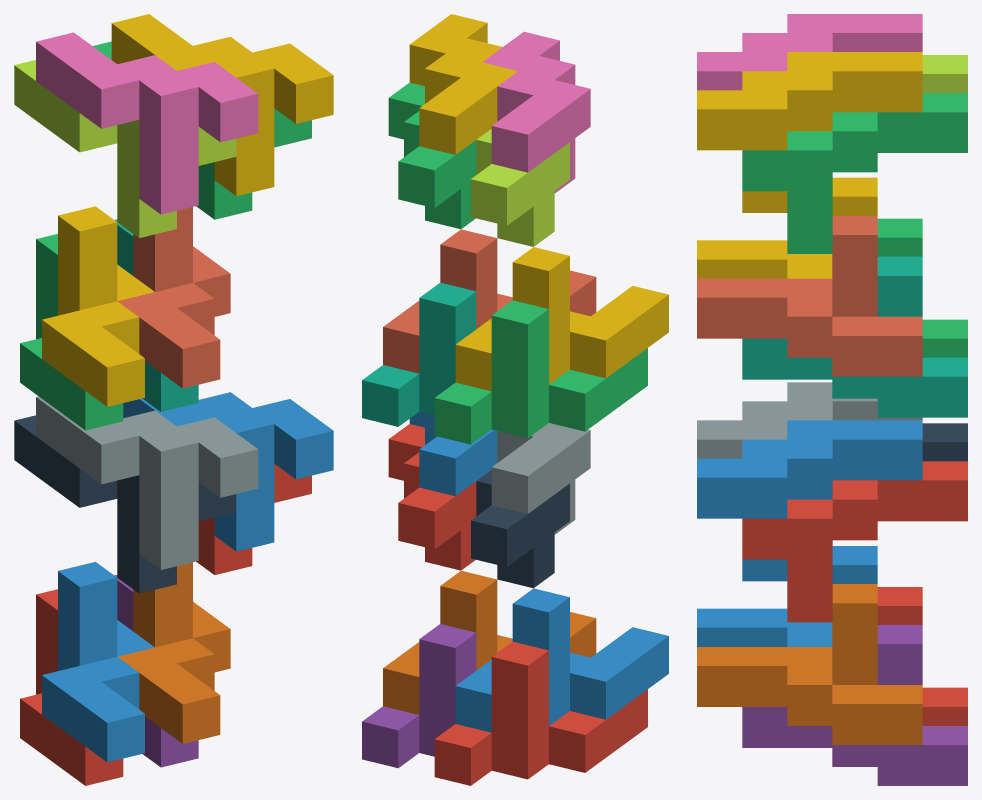
The model's file is tiling.obj.
3 views of the same model, side by side, from view 1: azimuth 30°, elevation 25°; view 2: azimuth 150°, elevation 25°; view 3: azimuth 270°, elevation 25° (orthographic). The views are drawn at different scales.
Parts seen in each view (by area): view 1: copy_2_domain_4, copy_2_domain_2, copy_1_domain_2, copy_1_domain_4, copy_2_domain_8, copy_1_domain_6, copy_1_domain_8, copy_2_domain_6, copy_2_domain_1, copy_2_domain_3, copy_1_domain_3, copy_1_domain_1 (+4 smaller); view 2: copy_1_domain_1, copy_1_domain_3, copy_1_domain_2, copy_1_domain_4, copy_2_domain_4, copy_2_domain_8, copy_1_domain_5, copy_1_domain_7, copy_1_domain_6, copy_1_domain_8, copy_2_domain_7, copy_2_domain_5 (+4 smaller); view 3: copy_1_domain_8, copy_1_domain_6, copy_2_domain_6, copy_2_domain_8, copy_2_domain_5, copy_2_domain_7, copy_1_domain_7, copy_1_domain_5, copy_2_domain_4, copy_2_domain_2, copy_1_domain_4, copy_1_domain_2 (+4 smaller).
Boxes of the visible parts, <box> form: copy_2_domain_4: <box>36,32,258,214</box>; copy_2_domain_2: <box>36,396,258,569</box>; copy_1_domain_2: <box>42,562,154,762</box>; copy_1_domain_4: <box>42,206,154,406</box>; copy_2_domain_8: <box>111,14,333,196</box>; copy_1_domain_6: <box>118,562,230,743</box>; copy_1_domain_8: <box>117,207,230,388</box>; copy_2_domain_6: <box>123,392,333,551</box>; copy_2_domain_1: <box>14,415,236,593</box>; copy_2_domain_3: <box>14,60,236,237</box>; copy_1_domain_3: <box>20,234,123,430</box>; copy_1_domain_1: <box>20,589,123,785</box>; copy_1_domain_1: <box>434,641,647,785</box>; copy_1_domain_3: <box>434,300,647,444</box>; copy_1_domain_2: <box>455,588,668,732</box>; copy_1_domain_4: <box>455,247,668,391</box>; copy_2_domain_4: <box>482,31,590,193</box>; copy_2_domain_8: <box>409,14,517,154</box>; copy_1_domain_5: <box>362,624,476,768</box>; copy_1_domain_7: <box>362,282,476,426</box>; copy_1_domain_6: <box>383,570,596,714</box>; copy_1_domain_8: <box>383,229,596,373</box>; copy_2_domain_7: <box>388,82,476,229</box>; copy_2_domain_5: <box>388,424,476,570</box>; copy_1_domain_8: <box>697,216,922,376</box>; copy_1_domain_6: <box>697,584,922,744</box>; copy_2_domain_6: <box>697,420,922,581</box>; copy_2_domain_8: <box>697,52,922,212</box>; copy_2_domain_5: <box>742,461,967,622</box>; copy_2_domain_7: <box>742,93,967,253</box>; copy_1_domain_7: <box>742,256,967,417</box>; copy_1_domain_5: <box>742,625,967,785</box>; copy_2_domain_4: <box>697,14,922,90</box>; copy_2_domain_2: <box>697,382,922,458</box>; copy_1_domain_4: <box>697,177,877,278</box>; copy_1_domain_2: <box>697,546,877,646</box>.
Bounding box in the file's own units: 6 × 17 × 6.
